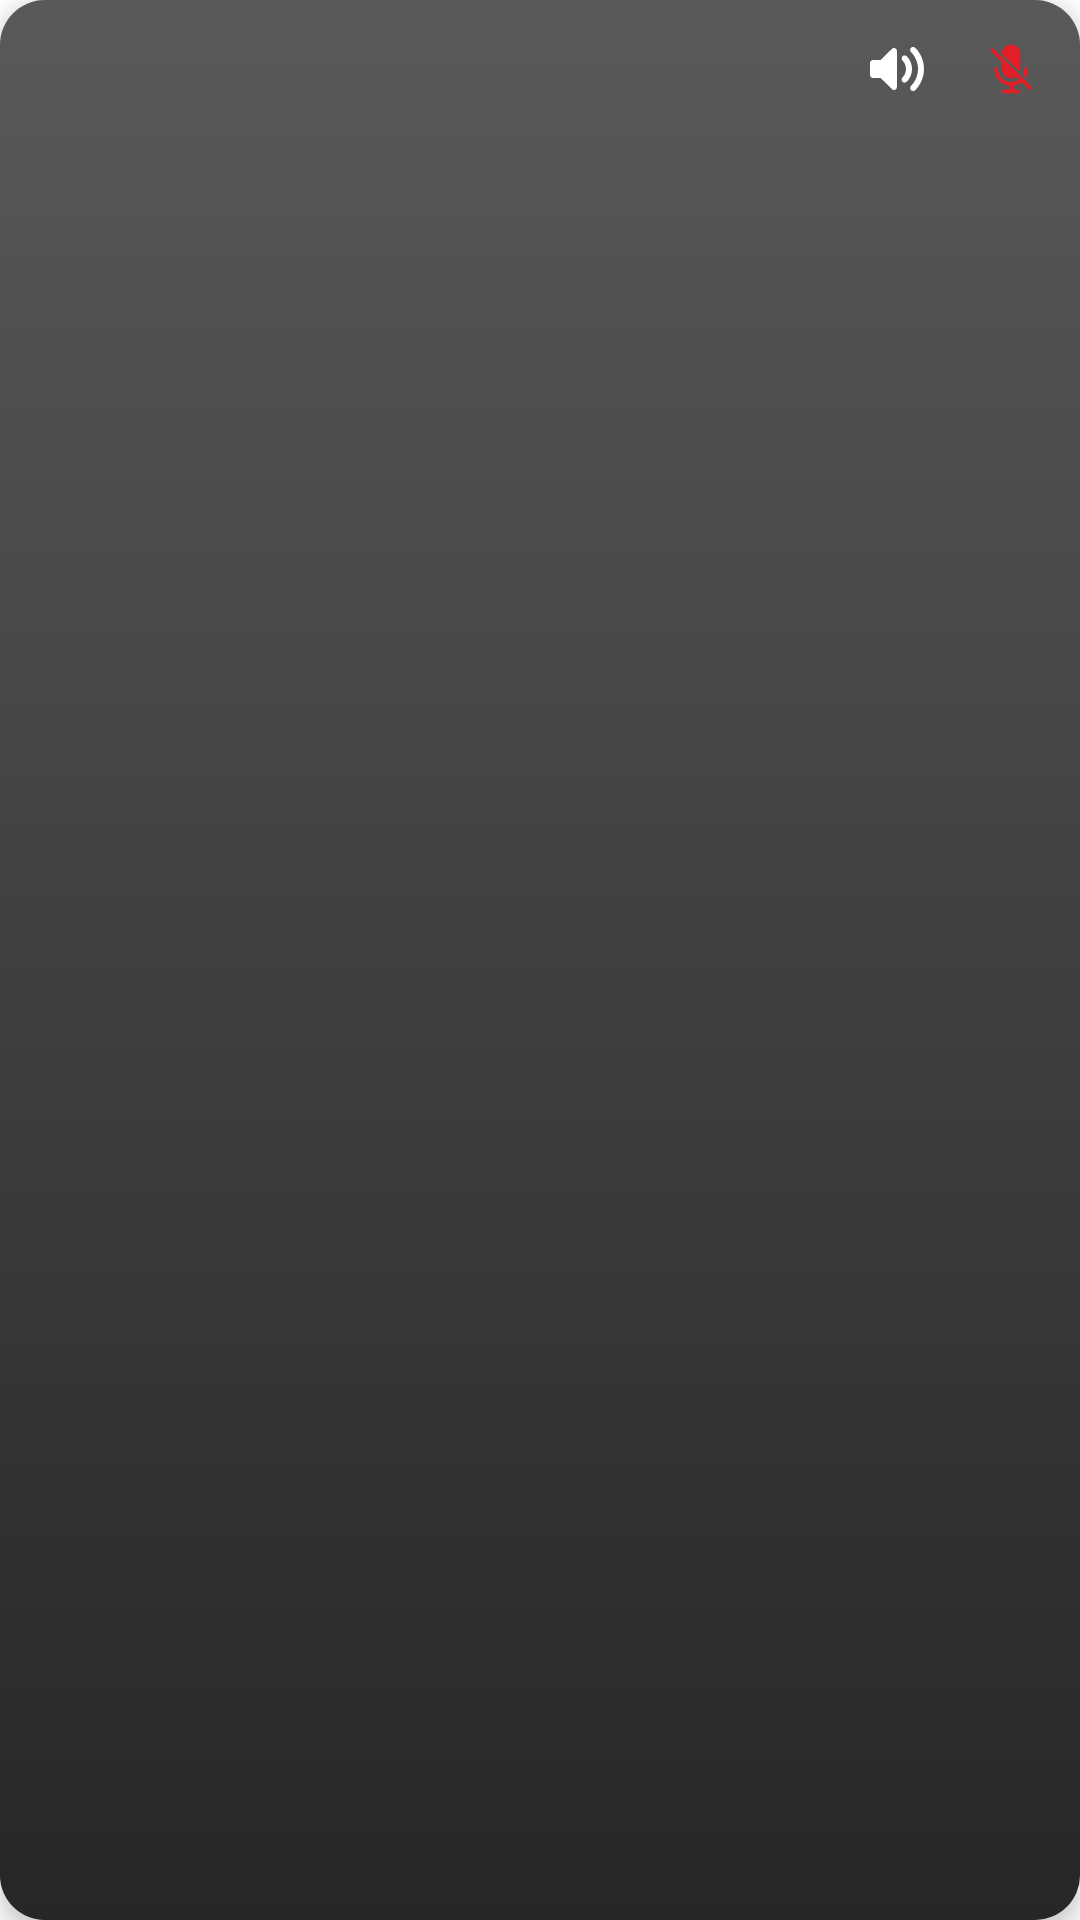

Where to tap for icons on this 1080x1920 app screen, as (x=x, y=y):
mic off: (x=1011, y=69)
speaker on: (x=897, y=69)
